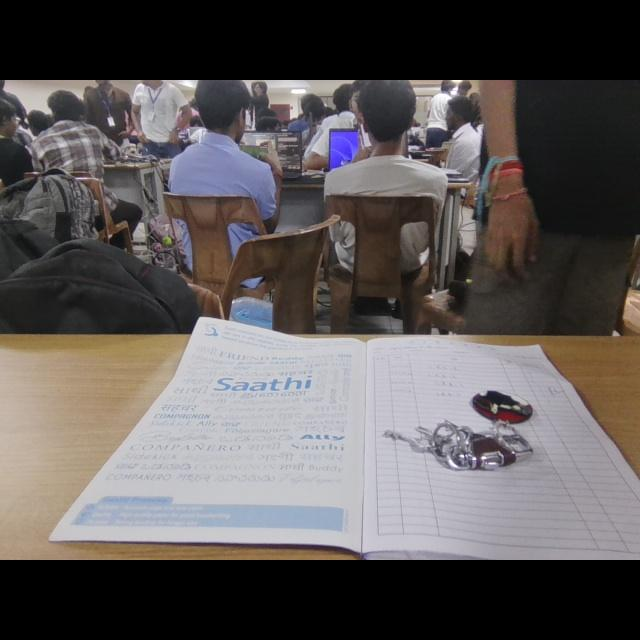keys: (388, 385, 546, 477)
